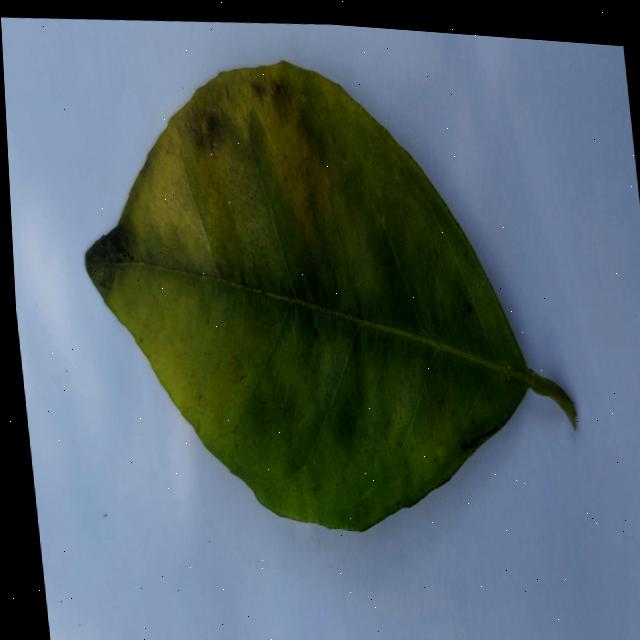greening: (85, 62, 574, 528)
